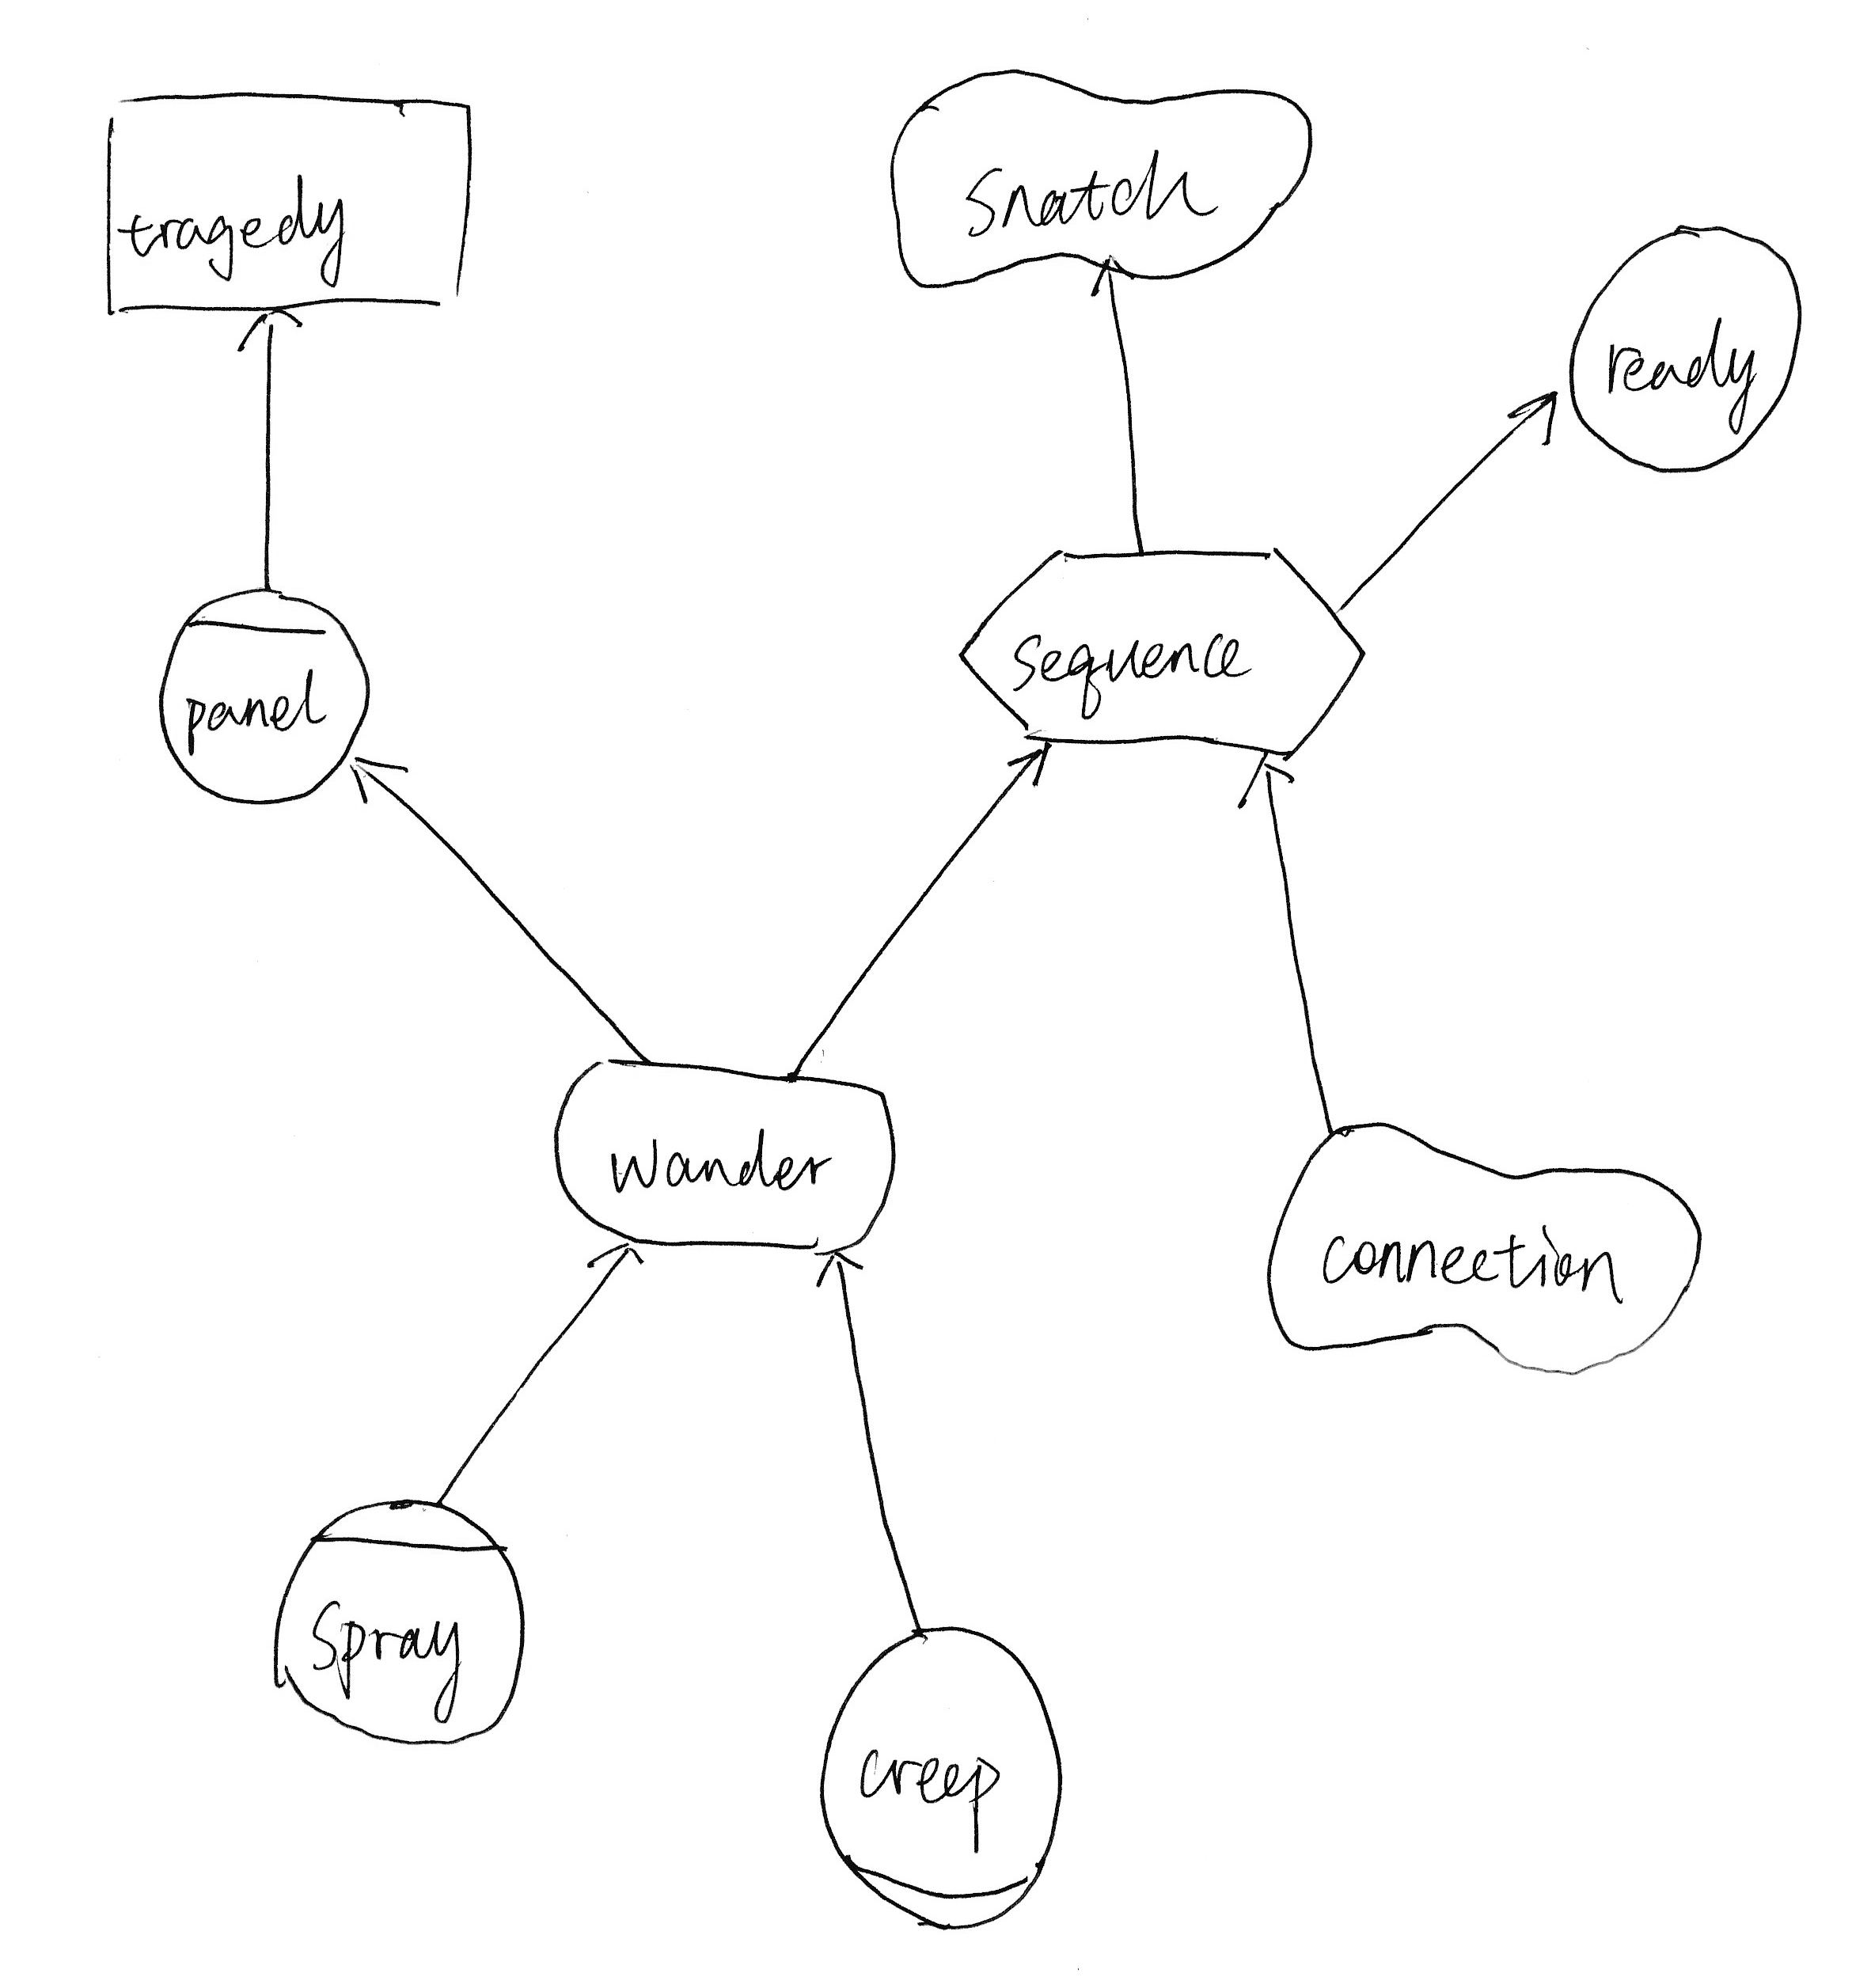actor: (1558, 211, 1821, 491)
agent: (245, 1483, 543, 1762), (141, 573, 378, 818)
arrow: (226, 303, 317, 373), (566, 1232, 658, 1300), (1499, 371, 1572, 454), (983, 735, 1076, 801), (1224, 745, 1304, 820), (334, 750, 419, 813), (802, 1241, 874, 1314), (1084, 251, 1137, 324)
goal: (547, 1041, 914, 1267)
quality: (1251, 1107, 1718, 1391), (876, 52, 1328, 306)
resource: (73, 71, 501, 331)
role: (804, 1615, 1100, 1943)
task: (947, 531, 1373, 771)
